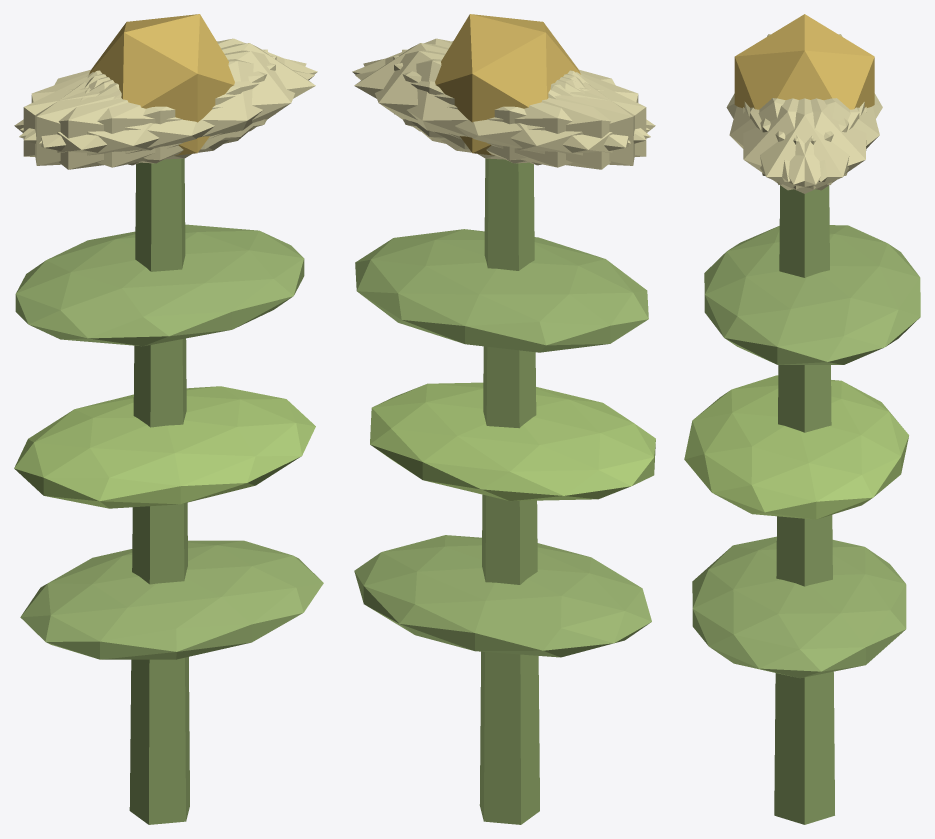
The model's file is fraxinus-uhdei.glb.
3 views of the same model, side by side, from view 1: azimuth 30°, elevation 25°; view 2: azimuth 150°, elevation 25°; view 3: azimuth 270°, elevation 25° (orthographic).
Visible parts, largest first — view 1: leaf1, leaf0, leaf2, stem, center, petal1, petal6, petal2, petal5, petal7, petal0, petal4 (+2 smaller); view 2: leaf2, leaf1, leaf0, stem, center, petal8, petal3, petal7, petal4, petal2, petal0, petal5 (+2 smaller); view 3: leaf2, leaf1, leaf0, stem, center, petal0, petal5, petal4, petal1, petal8.
Boxes of the visible parts, left/top/right/bottom form: leaf1: left=14, top=386, right=315, bottom=508; leaf0: left=20, top=540, right=323, bottom=659; leaf2: left=15, top=224, right=304, bottom=346; stem: left=129, top=158, right=189, bottom=824; center: left=89, top=14, right=234, bottom=155; petal1: left=19, top=59, right=314, bottom=167; petal6: left=14, top=72, right=228, bottom=169; petal2: left=35, top=49, right=267, bottom=165; petal5: left=39, top=50, right=306, bottom=160; petal7: left=23, top=55, right=276, bottom=163; petal0: left=88, top=43, right=315, bottom=149; petal4: left=20, top=38, right=317, bottom=140; leaf2: left=355, top=229, right=648, bottom=352; leaf1: left=370, top=382, right=655, bottom=501; leaf0: left=354, top=535, right=651, bottom=657; stem: left=479, top=158, right=539, bottom=824; center: left=435, top=14, right=580, bottom=155; petal8: left=355, top=59, right=650, bottom=167; petal3: left=441, top=72, right=655, bottom=169; petal7: left=402, top=49, right=634, bottom=165; petal4: left=363, top=50, right=630, bottom=160; petal2: left=393, top=55, right=646, bottom=163; petal0: left=354, top=43, right=581, bottom=149; petal5: left=352, top=38, right=649, bottom=140; leaf2: left=704, top=225, right=920, bottom=364; leaf1: left=684, top=375, right=908, bottom=519; leaf0: left=692, top=536, right=906, bottom=678; stem: left=774, top=185, right=834, bottom=824; center: left=734, top=14, right=874, bottom=109; petal0: left=744, top=98, right=864, bottom=193; petal5: left=743, top=98, right=859, bottom=190; petal4: left=750, top=98, right=866, bottom=190; petal1: left=729, top=98, right=848, bottom=181; petal8: left=760, top=98, right=879, bottom=181.
Bounding box in the file's own units: 0.1452 × 0.3759 × 0.1034.
